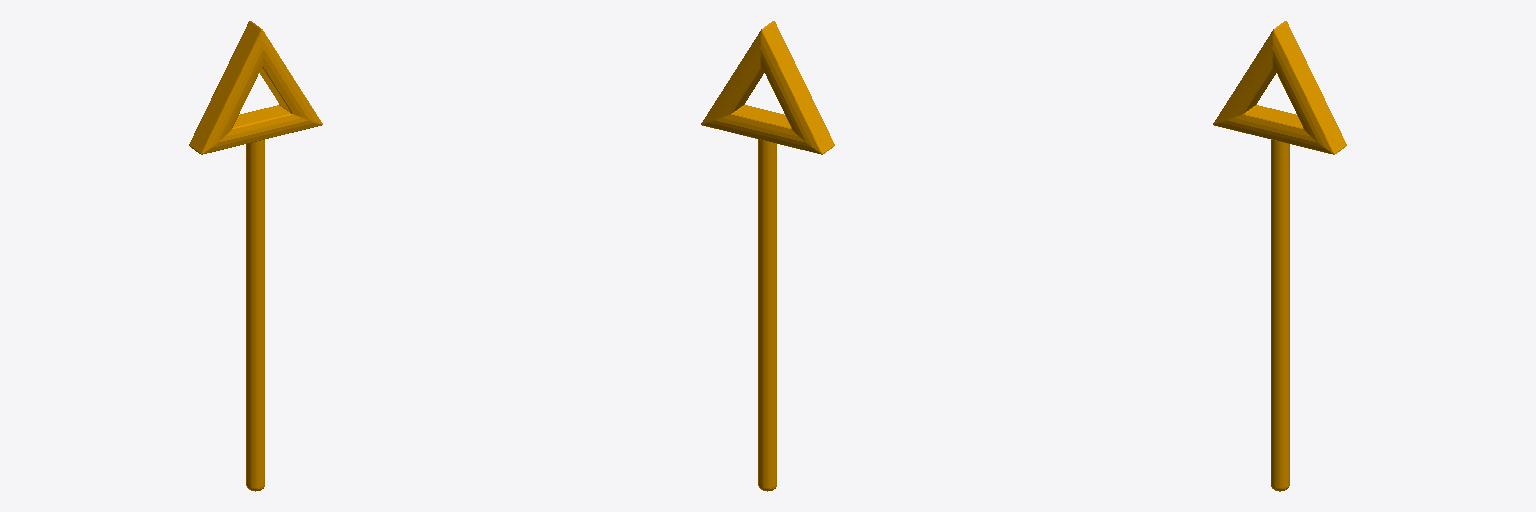
robot.urdf — feg:
<?xml version="1.0" ?>
<!-- =================================================================================== -->
<!-- |    This document was autogenerated by xacro from hand.urdf.xacro                | -->
<!-- |    EDITING THIS FILE BY HAND IS NOT RECOMMENDED                                 | -->
<!-- =================================================================================== -->
<robot name="feg" xmlns:xacro="http://www.ros.org/wiki/xacro">
  <link name="panda_hand">
    <visual>
      <geometry>
        <mesh filename="package://franka_description/meshes/collision/pointer.obj"/>
      </geometry>
    </visual>
    <collision>
      <geometry>
        <mesh filename="package://franka_description/meshes/collision/pointer.obj"/>
      </geometry>
    </collision>
    <!-- <visual>
      <geometry>
        <mesh filename="package://franka_description/meshes/visual/hand.dae"/>
      </geometry>
    </visual>
    <collision>
      <geometry>
        <mesh filename="package://franka_description/meshes/collision/hand.obj"/>
      </geometry>
    </collision> -->
  </link>
  <link name="panda_leftfinger">
    <!-- <visual>
      <geometry>
        <mesh filename="package://franka_description/meshes/visual/finger.dae"/>
      </geometry>
    </visual>
    <collision>
      <geometry>
        <mesh filename="package://franka_description/meshes/collision/finger.obj"/>
      </geometry>
    </collision> -->
  </link>
  <link name="panda_rightfinger">
    <!-- <visual>
      <origin rpy="0 0 3.14159265359" xyz="0 0 0"/>
      <geometry>
        <mesh filename="package://franka_description/meshes/visual/finger.dae"/>
      </geometry>
    </visual>
    <collision>
      <origin rpy="0 0 3.14159265359" xyz="0 0 0"/>
      <geometry>
        <mesh filename="package://franka_description/meshes/collision/finger.obj"/>
      </geometry>
    </collision> -->
  </link>
  <joint name="panda_finger_joint1" type="prismatic">
    <parent link="panda_hand"/>
    <child link="panda_leftfinger"/>
    <origin rpy="0 0 0" xyz="0 0 0.0584"/>
    <axis xyz="0 1 0"/>
    <limit effort="20" lower="0.0" upper="0.04" velocity="0.2"/>
  </joint>
  <joint name="panda_finger_joint2" type="prismatic">
    <parent link="panda_hand"/>
    <child link="panda_rightfinger"/>
    <origin rpy="0 0 0" xyz="0 0 0.0584"/>
    <axis xyz="0 -1 0"/>
    <limit effort="20" lower="0.0" upper="0.04" velocity="0.2"/>
    <mimic joint="panda_finger_joint1"/>
  </joint>

  <link name="world_link"/>
  <link name="base_link_0"/>
  <link name="base_link_1"/>
  <link name="base_link_2"/>
  <link name="base_footprint_0"/>
  <link name="base_footprint_1"/>
  <link name="base_footprint_2"/>

  <joint name="x" type="prismatic">
    <limit lower="-12" upper="12"/>
    <parent link="world_link"/>
    <child link="base_link_0"/>
    <axis xyz="1 0 0"/>
  </joint>
  <joint name="y" type="prismatic">
    <limit lower="-12" upper="12"/>
    <parent link="base_link_0"/>
    <child link="base_link_1"/>
    <axis xyz="0 1 0"/>
  </joint>
  <joint name="z" type="prismatic">
    <limit lower="-12" upper="12"/>
    <parent link="base_link_1"/>
    <child link="base_link_2"/>
    <axis xyz="0 0 1"/>
  </joint>
  <joint name="roll" type="continuous">
    <parent link="base_link_2"/>
    <child link="base_footprint_0"/>
    <axis xyz="1 0 0"/>
  </joint>
  <joint name="pitch" type="continuous">
    <parent link="base_footprint_0"/>
    <child link="base_footprint_1"/>
    <axis xyz="0 1 0"/>
  </joint>
  <joint name="yaw" type="continuous">
    <parent link="base_footprint_1"/>
    <child link="base_footprint_2"/>
    <axis xyz="0 0 1"/>
  </joint>

  <joint name="base_footprint_joint" type="fixed">
    <origin rpy="0 0 0" xyz="0 0 0"/>
    <child link="panda_hand"/>
    <parent link="base_footprint_2"/>
  </joint>

  <link name="tool_link"/>
  <joint name="tool_joint" type="fixed">
    <origin rpy="0 0 1.57079632679" xyz="0.0 0 0.1"/>
    <axis xyz="0 0 1"/>
    <parent link="panda_hand"/>
    <child link="tool_link"/>
  </joint>
</robot>

--- Render facts (derived) ---
Views: 3 orthographic renders of the robot side by side, from view 1: azimuth 30°, elevation 25°; view 2: azimuth 150°, elevation 25°; view 3: azimuth 330°, elevation 25°.
Model feg with 11 links and 10 joints (3 continuous, 5 prismatic, 2 fixed), rooted at world_link, posed every joint at zero.
Links seen in each view (by area): view 1: panda_hand; view 2: panda_hand; view 3: panda_hand.
Link boxes in pixels (bbox=[...]): panda_hand: bbox=[189, 21, 322, 491]; panda_hand: bbox=[701, 21, 834, 491]; panda_hand: bbox=[1213, 21, 1346, 491].
Bounding box of the posed robot: 7.15 × 1.53 × 25.99 m (x, y, z).
1 mesh visuals loaded from 1 distinct referenced files (1 OBJ).